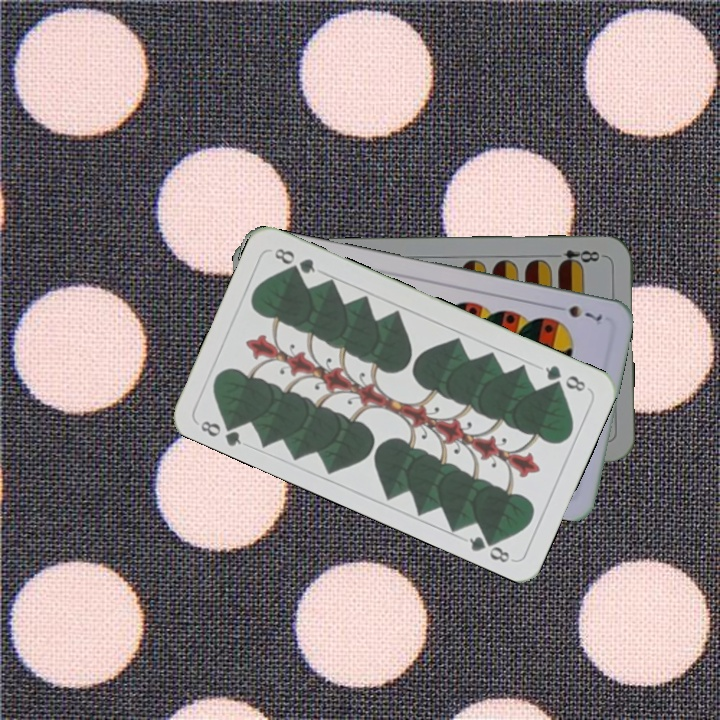E8: (547, 246, 606, 269)
G8: (196, 414, 244, 449), (541, 361, 589, 394)
S7: (549, 301, 605, 324)
